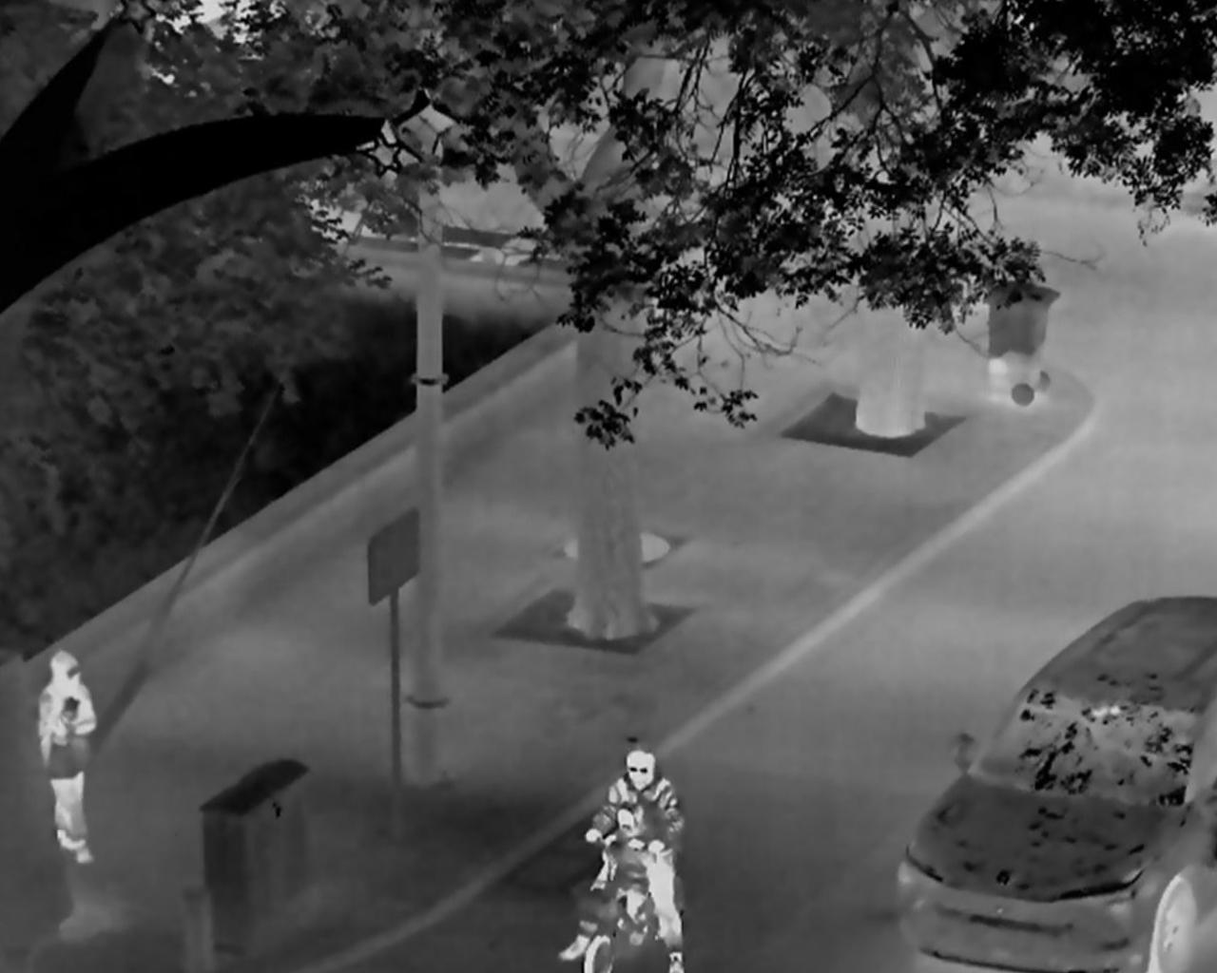person: (557, 746, 689, 973), (34, 649, 98, 864), (599, 801, 653, 946)
